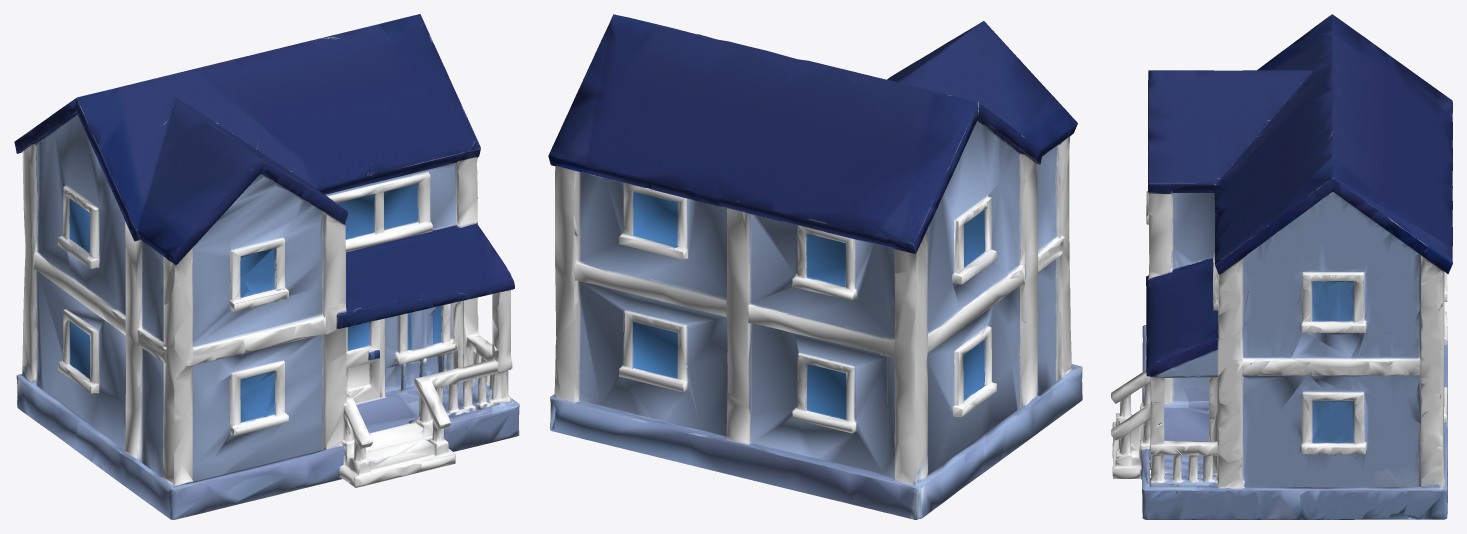
3 renders of one model, left to right at view 1: azimuth 30°, elevation 25°; view 2: azimuth 150°, elevation 25°; view 3: azimuth 270°, elevation 25°, orthographic. The views are drawn at different scales.
Visible parts, largest first — view 1: Mesh_0; view 2: Mesh_0; view 3: Mesh_0.
Part boxes in pixels (bbox=[...]): Mesh_0: bbox=[14, 14, 519, 519]; Mesh_0: bbox=[548, 14, 1082, 519]; Mesh_0: bbox=[1111, 14, 1452, 519].
Size of the model in its own units: 1.9 by 1.82 by 1.65.
Materials: 1 (1 with a texture image).
